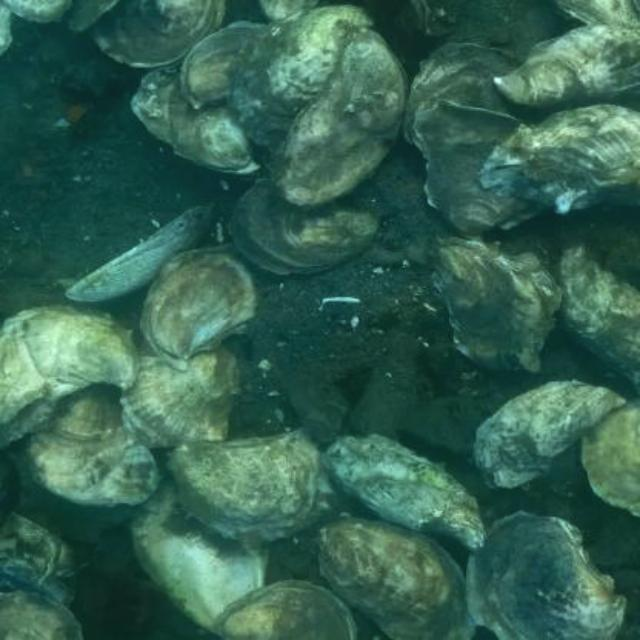Oyster-Closed: (272, 22, 410, 206), (228, 6, 375, 149), (133, 478, 266, 636), (466, 510, 626, 640), (0, 305, 140, 450), (168, 426, 337, 543), (318, 517, 478, 640), (323, 433, 488, 550), (412, 102, 550, 241), (480, 103, 640, 213), (426, 238, 561, 368), (26, 384, 160, 508), (475, 381, 625, 490), (142, 243, 264, 370), (405, 43, 545, 145), (230, 179, 379, 273), (133, 64, 260, 174), (493, 23, 640, 113), (122, 344, 240, 448), (553, 244, 640, 380), (89, 0, 227, 73), (214, 579, 358, 640), (0, 503, 80, 608), (180, 21, 267, 109), (581, 397, 640, 516), (0, 591, 82, 640), (554, 0, 640, 34), (71, 0, 118, 33), (0, 1, 13, 56)
